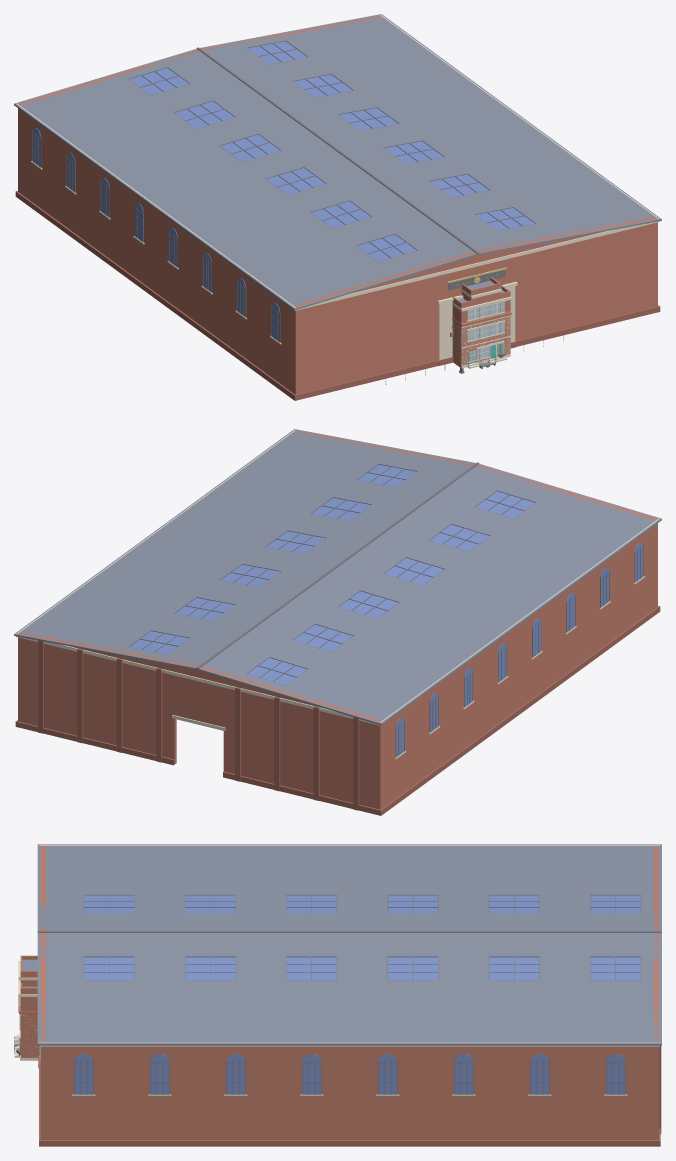
Rendered from steampunk_props.fbx.
The picture shows the model from 3 angles, top to bottom: view 1: azimuth 30°, elevation 25°; view 2: azimuth 150°, elevation 25°; view 3: azimuth 270°, elevation 25°; orthographic projection. The views are drawn at different scales.
Parts seen in each view (by area): view 1: Roof__Slate.001, Wall__Brick, Skylight__NightGlass, Plinth__BrickDark.001, SkyFrame__Iron, Window__NightGlass, Cornice__CreamStone.001, HouseWall__Brick.001, Mullion__Iron.001, Frame__CreamStone, Trim__CreamStone.001, Ridge__Iron (+2 smaller); view 2: Roof__Slate.001, Wall__Brick, Skylight__NightGlass, Pilaster__BrickDark, Plinth__BrickDark.001, SkyFrame__Iron, Window__NightGlass, Cornice__CreamStone.001, Mullion__Iron.001, Ridge__Iron; view 3: Roof__Slate.001, Wall__Brick, Skylight__NightGlass, Window__NightGlass, Plinth__BrickDark.001, SkyFrame__Iron, Cornice__CreamStone.001, Mullion__Iron.001, Ridge__Iron, HouseWall__Brick.001.
Part boxes in pixels (<box>): Roof__Slate.001: <box>14,14,661,310</box>; Wall__Brick: <box>18,15,657,394</box>; Skylight__NightGlass: <box>129,41,534,261</box>; Plinth__BrickDark.001: <box>15,191,660,400</box>; SkyFrame__Iron: <box>128,40,536,262</box>; Window__NightGlass: <box>32,128,279,341</box>; Cornice__CreamStone.001: <box>16,15,659,310</box>; HouseWall__Brick.001: <box>452,295,510,367</box>; Mullion__Iron.001: <box>32,130,490,342</box>; Frame__CreamStone: <box>439,286,515,360</box>; Trim__CreamStone.001: <box>452,296,511,368</box>; Ridge__Iron: <box>196,47,479,253</box>; Roof__Slate.001: <box>14,429,661,725</box>; Wall__Brick: <box>18,430,657,809</box>; Skylight__NightGlass: <box>130,464,534,685</box>; Pilaster__BrickDark: <box>38,640,359,810</box>; Plinth__BrickDark.001: <box>15,606,660,815</box>; SkyFrame__Iron: <box>128,463,536,685</box>; Window__NightGlass: <box>396,543,643,756</box>; Cornice__CreamStone.001: <box>16,430,659,725</box>; Mullion__Iron.001: <box>395,545,643,757</box>; Ridge__Iron: <box>196,462,479,668</box>; Roof__Slate.001: <box>37,844,661,1045</box>; Wall__Brick: <box>40,845,658,1139</box>; Skylight__NightGlass: <box>84,895,640,980</box>; Window__NightGlass: <box>74,1054,624,1093</box>; Plinth__BrickDark.001: <box>39,1055,660,1146</box>; SkyFrame__Iron: <box>83,894,641,980</box>; Cornice__CreamStone.001: <box>39,845,659,1046</box>; Mullion__Iron.001: <box>74,1060,625,1094</box>; Ridge__Iron: <box>37,931,661,932</box>; HouseWall__Brick.001: <box>20,993,39,1060</box>.
Size of the model in its own units: 74.6 by 23.15 by 102.
